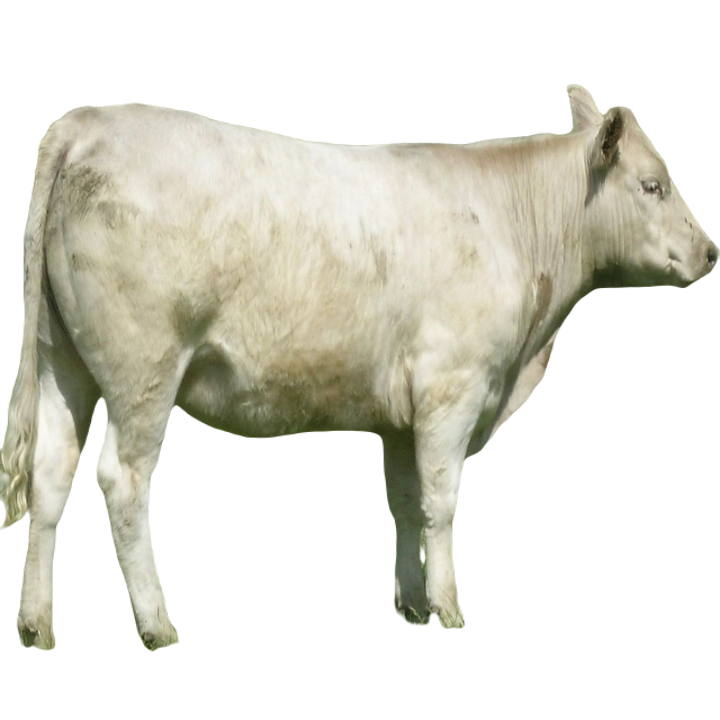Cow: (0, 86, 719, 649)
